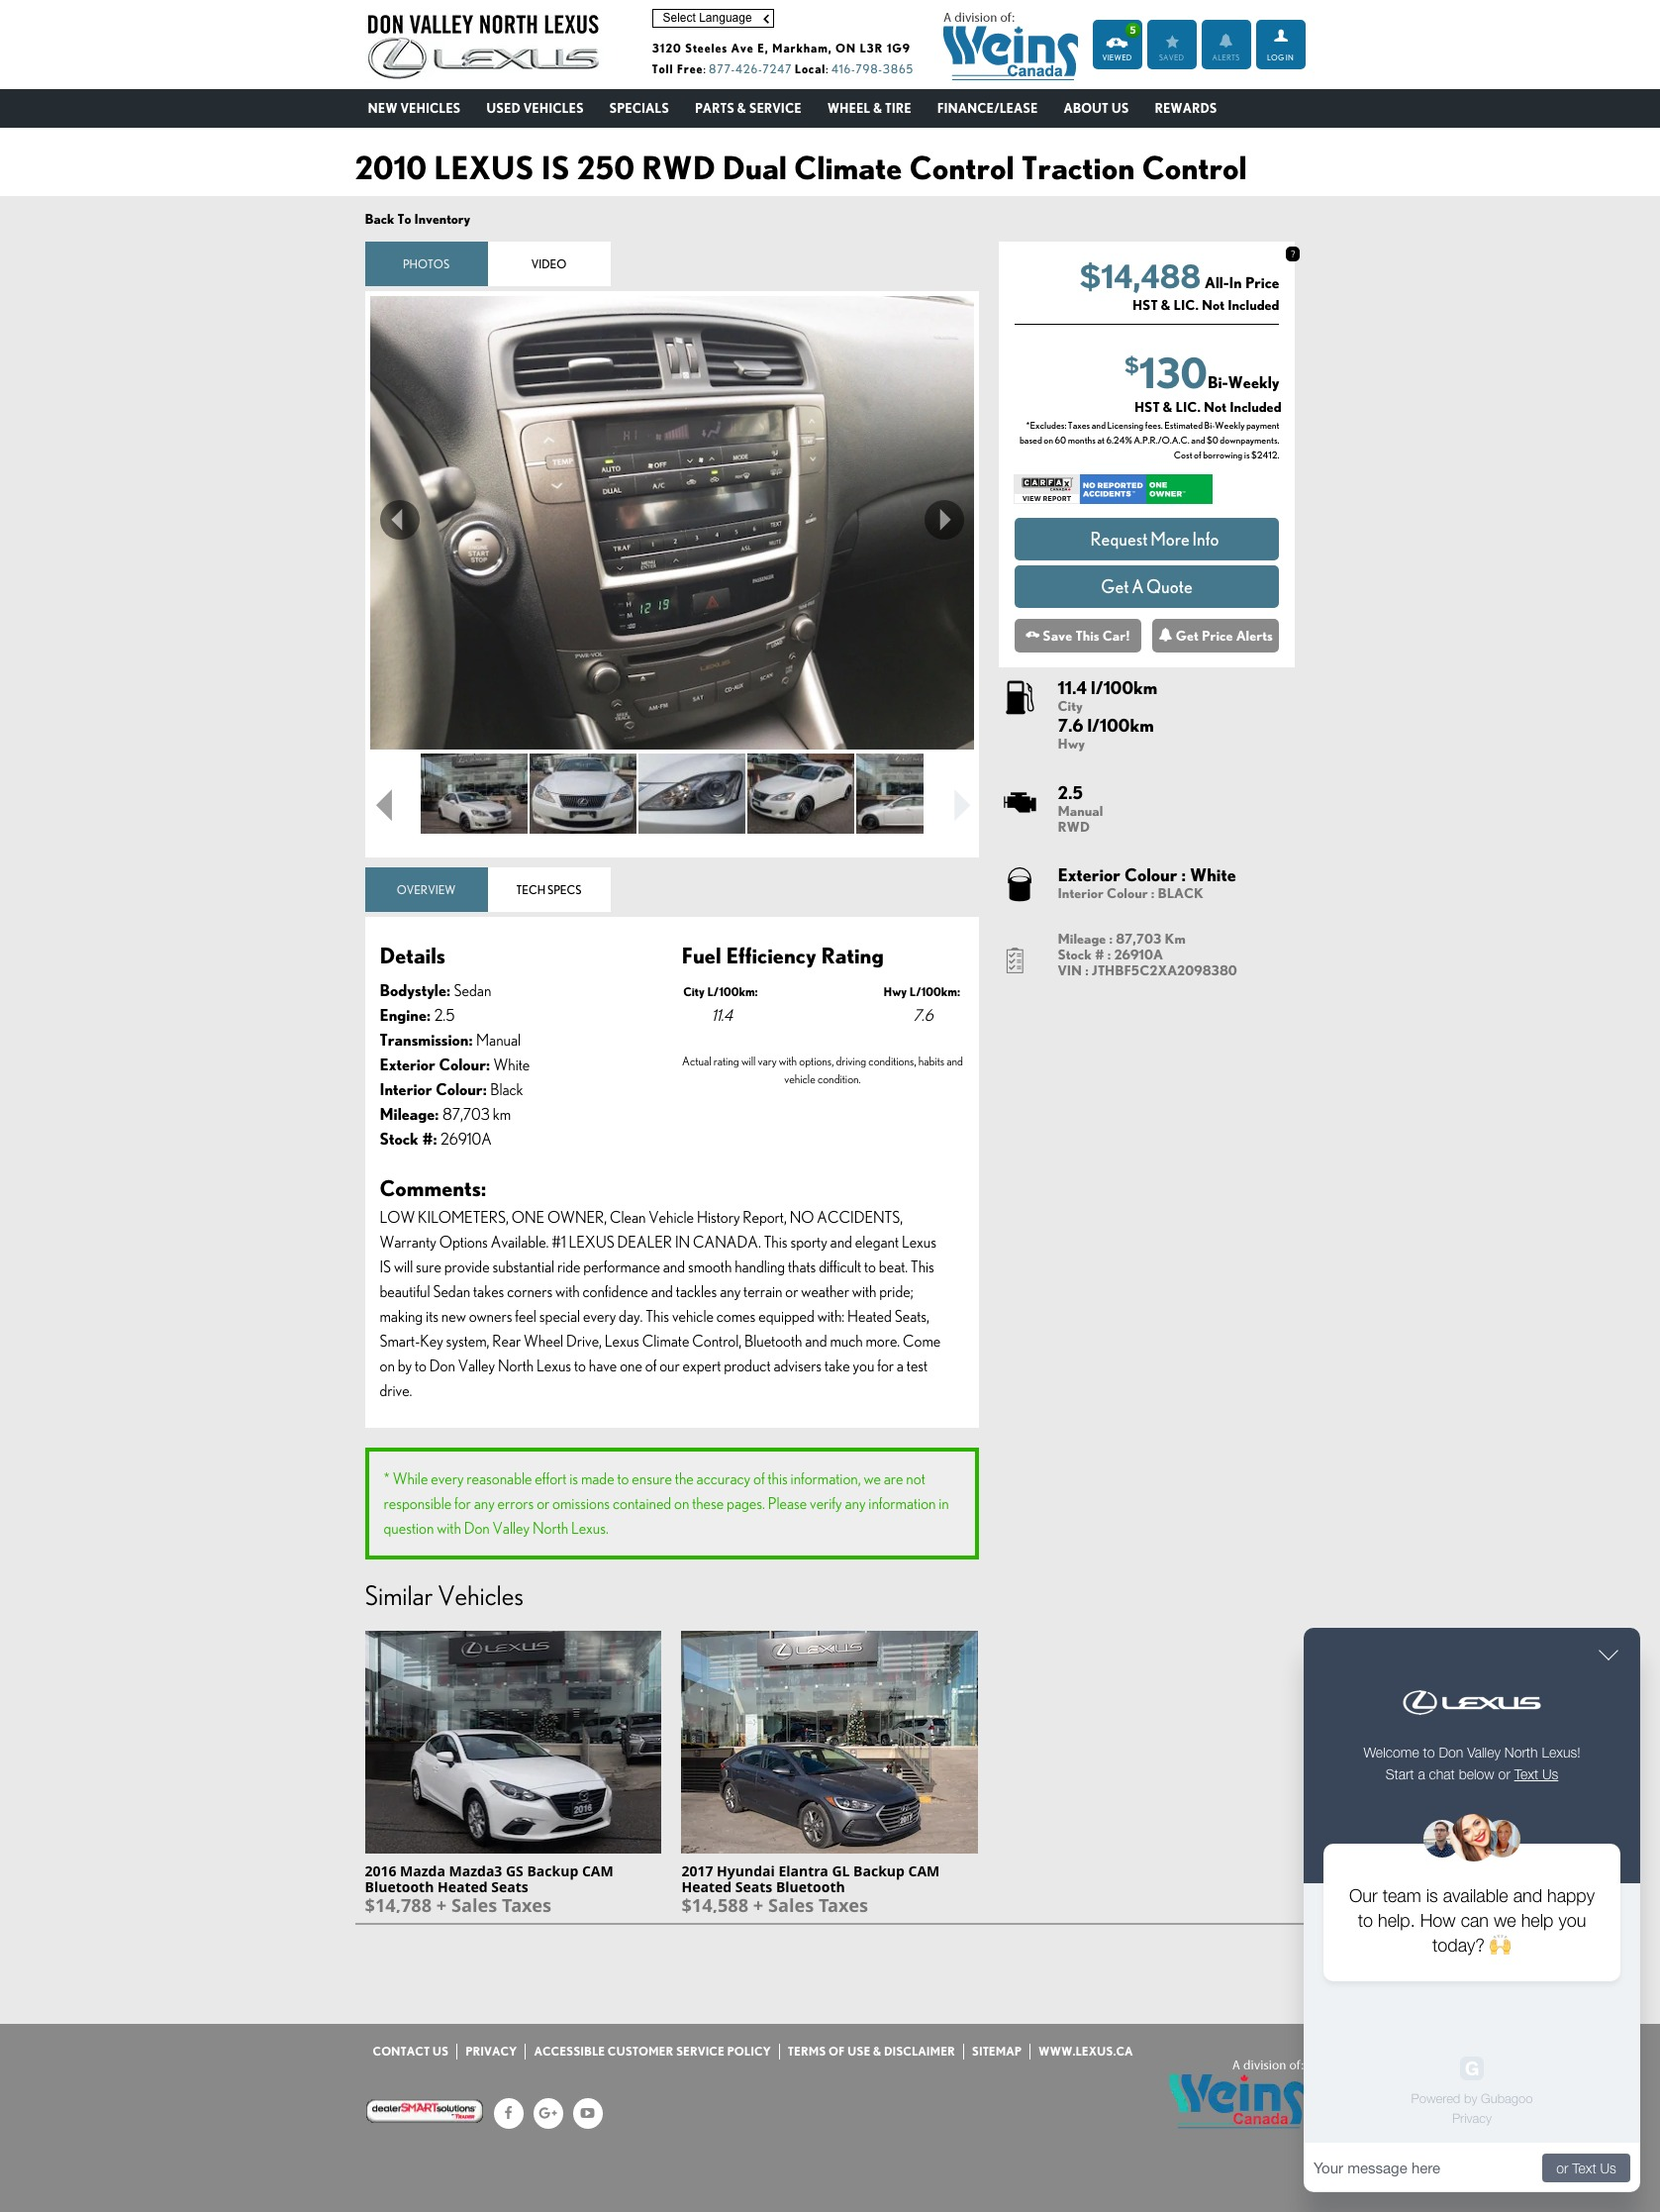car: (954, 787, 971, 823)
